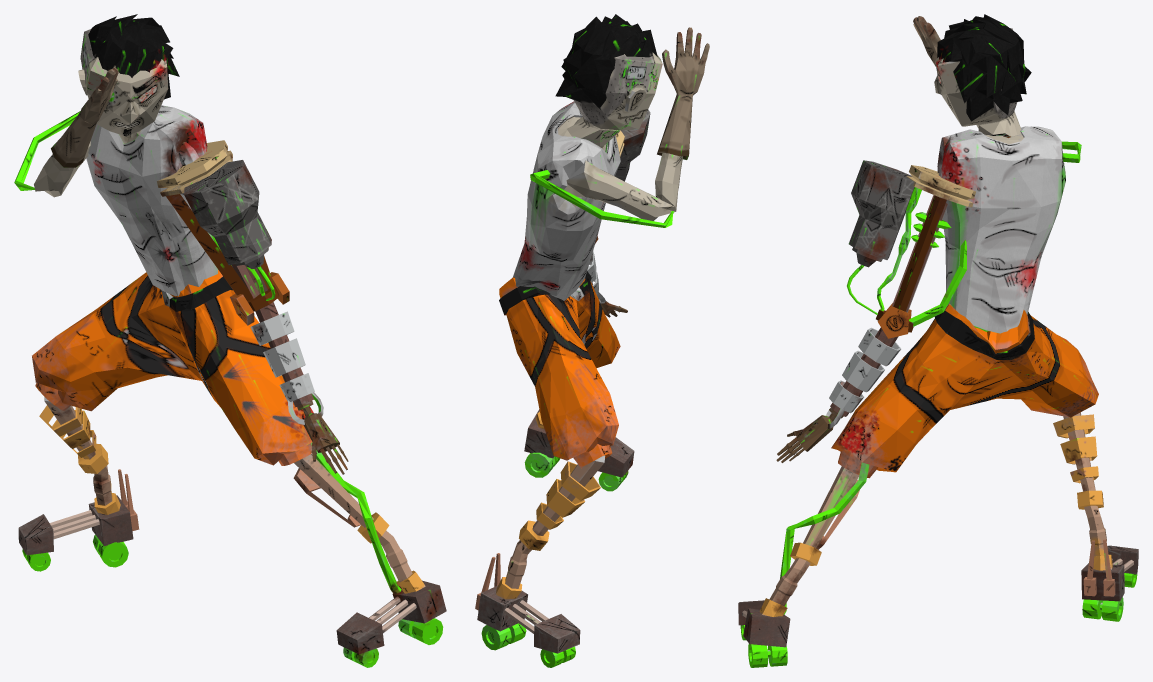
Rendered from CyborgFINALAnimation_000048.obj.
3 renders of one model, left to right at view 1: azimuth 30°, elevation 25°; view 2: azimuth 150°, elevation 25°; view 3: azimuth 270°, elevation 25°, orthographic. The views are drawn at different scales.
Visible parts, largest first — view 1: CyborgMesh_Cube.002; view 2: CyborgMesh_Cube.002; view 3: CyborgMesh_Cube.002.
Boxes of the visible parts, x1,y1,x2,y2 form: CyborgMesh_Cube.002: [14, 14, 446, 667]; CyborgMesh_Cube.002: [475, 14, 709, 667]; CyborgMesh_Cube.002: [738, 14, 1138, 667].
Bounding box in the file's own units: 4.24 × 8.64 × 5.44.
